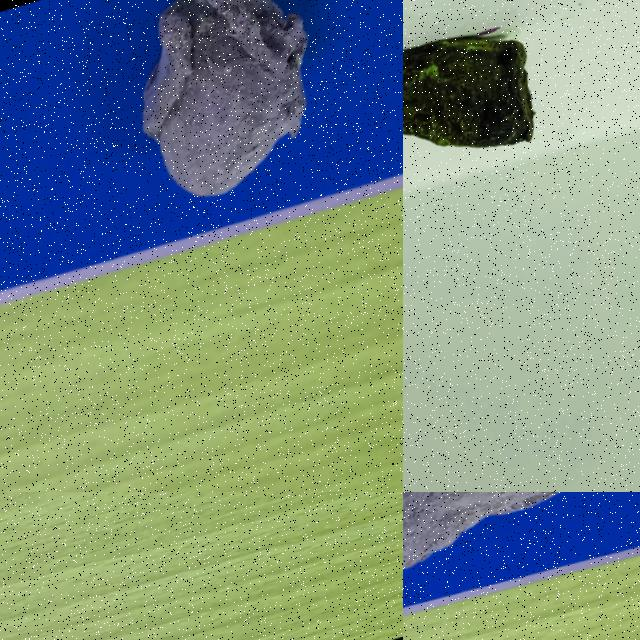Agglomerated_cocoabeans: (48, 0, 402, 266), (403, 492, 639, 627)
Flat_cocoabeans: (403, 0, 621, 237)
